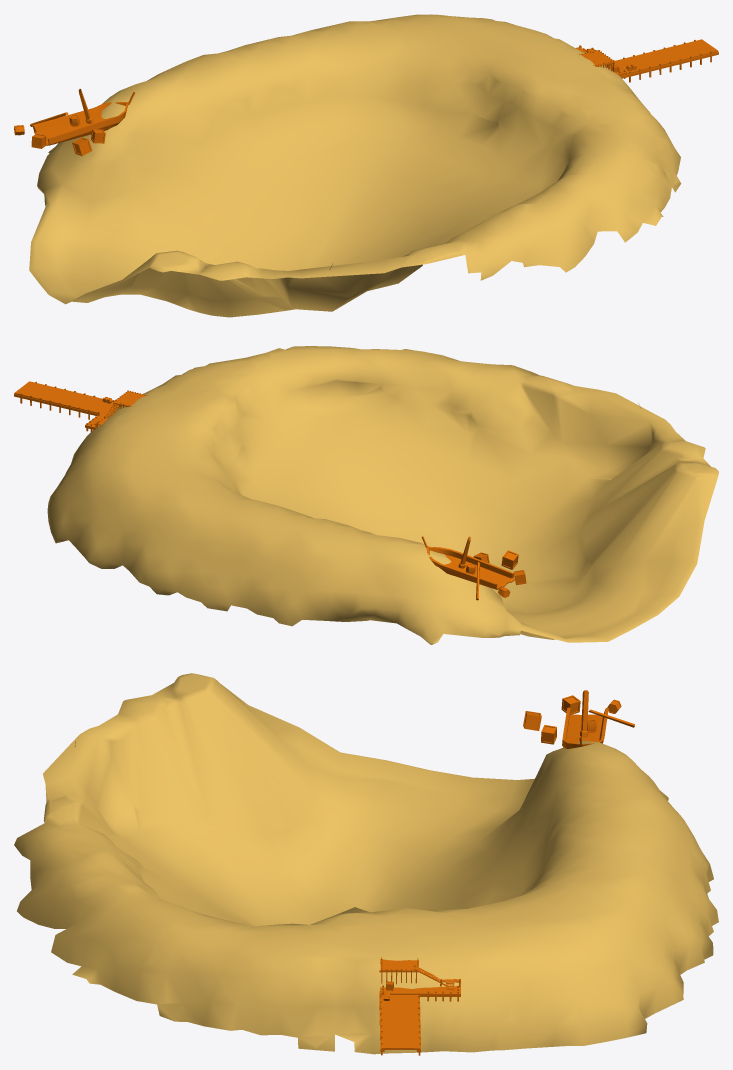
The model's file is Iles_Early_1 (1).fbx.
3 views of the same model, one above another, from view 1: azimuth 30°, elevation 25°; view 2: azimuth 150°, elevation 25°; view 3: azimuth 270°, elevation 25° (orthographic). The views are drawn at different scales.
Visible parts, largest first — view 1: Sphere, Cube.005, Cube.001; view 2: Sphere, Cube.005, Cube.001; view 3: Sphere, Cube.001, Cube.005.
Boxes of the visible parts, box(x1,y1,x2,y2) form: Sphere: box(29, 14, 681, 317); Cube.005: box(14, 89, 135, 155); Cube.001: box(576, 39, 718, 82); Sphere: box(47, 346, 718, 644); Cube.005: box(421, 536, 526, 600); Cube.001: box(14, 381, 147, 432); Sphere: box(14, 673, 718, 1054); Cube.001: box(379, 957, 460, 1055); Cube.005: box(523, 690, 634, 748).
Bounding box in the file's own units: 7144 × 1541 × 5496.
